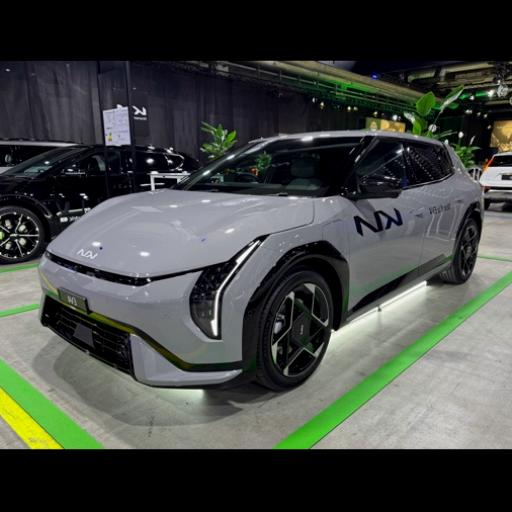hatchback: (39, 132, 484, 390), (480, 151, 512, 208)
sedan: (0, 145, 201, 261)
suv: (0, 138, 79, 174)
